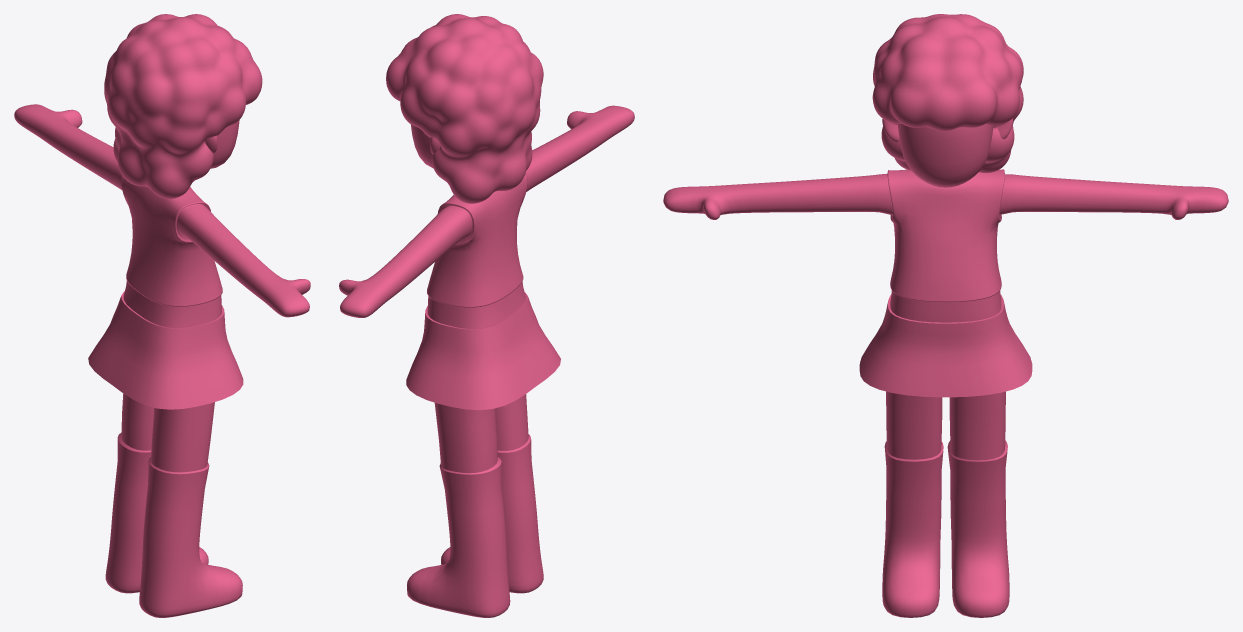
The model's file is DragQueenBaseUltim.fbx.
3 views of the same model, side by side, from view 1: azimuth 30°, elevation 25°; view 2: azimuth 150°, elevation 25°; view 3: azimuth 270°, elevation 25° (orthographic). The views are drawn at different scales.
Visible parts, largest first — view 1: Cube, Personaje_base.008, Cube.006, Cube.001; view 2: Cube, Personaje_base.008, Cube.006, Cube.001; view 3: Cube, Personaje_base.008, Cube.006, Cube.001.
Boxes of the visible parts, x1,y1,x2,y2 form: Cube: (14,104,310,617); Personaje_base.008: (104,14,262,198); Cube.006: (88,291,243,409); Cube.001: (210,120,239,168); Cube: (339,105,634,617); Personaje_base.008: (386,14,543,203); Cube.006: (406,292,560,410); Cube.001: (410,124,433,168); Cube: (663,169,1228,617); Personaje_base.008: (872,14,1023,172); Cube.006: (859,295,1032,397); Cube.001: (898,123,993,187).
Bounding box in the file's own units: 176 × 699 × 614.
